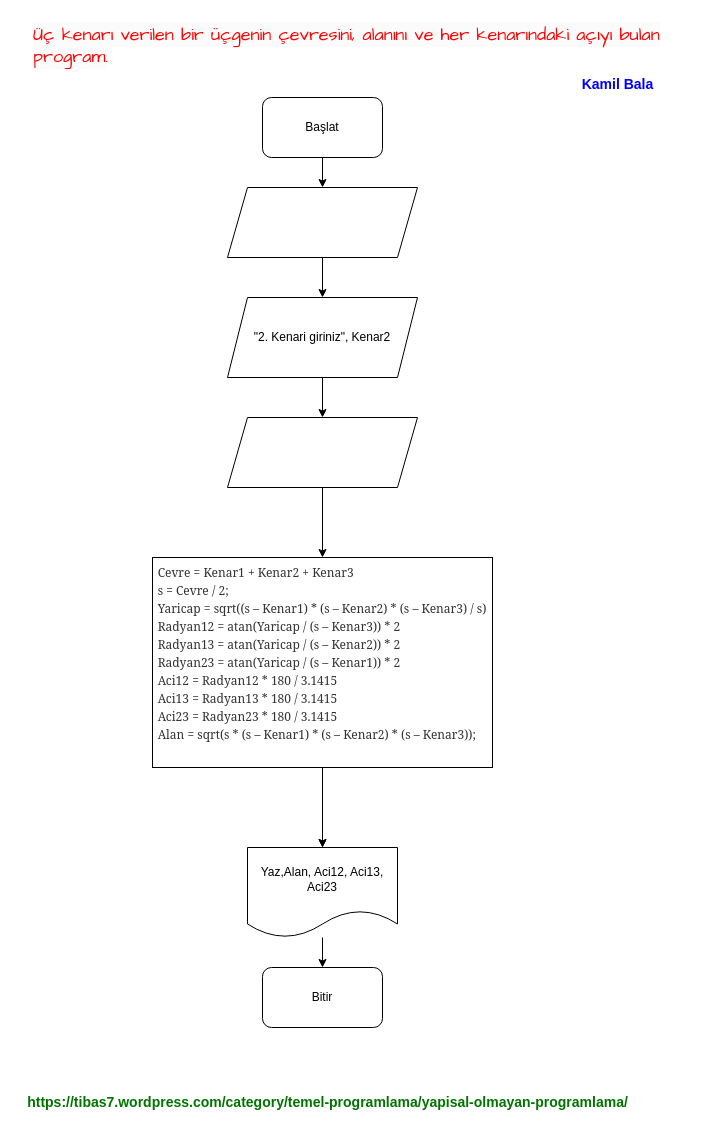
This 704x1134 diagram has some shape labels left out. The centre of each missing label's shape, as x and y in pixels:
"1. Kenari giriniz", Kenar1: (x=322, y=222)
"3. Kenari giriniz", Kenar3: (x=322, y=452)
